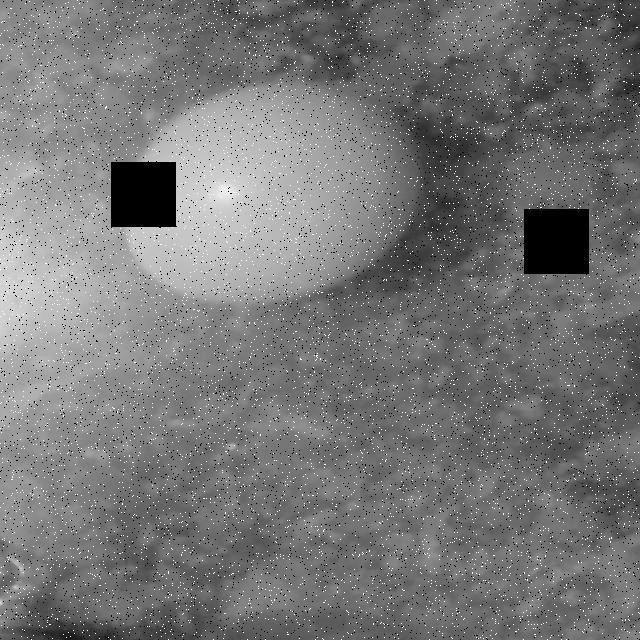egg: (118, 71, 436, 316)
